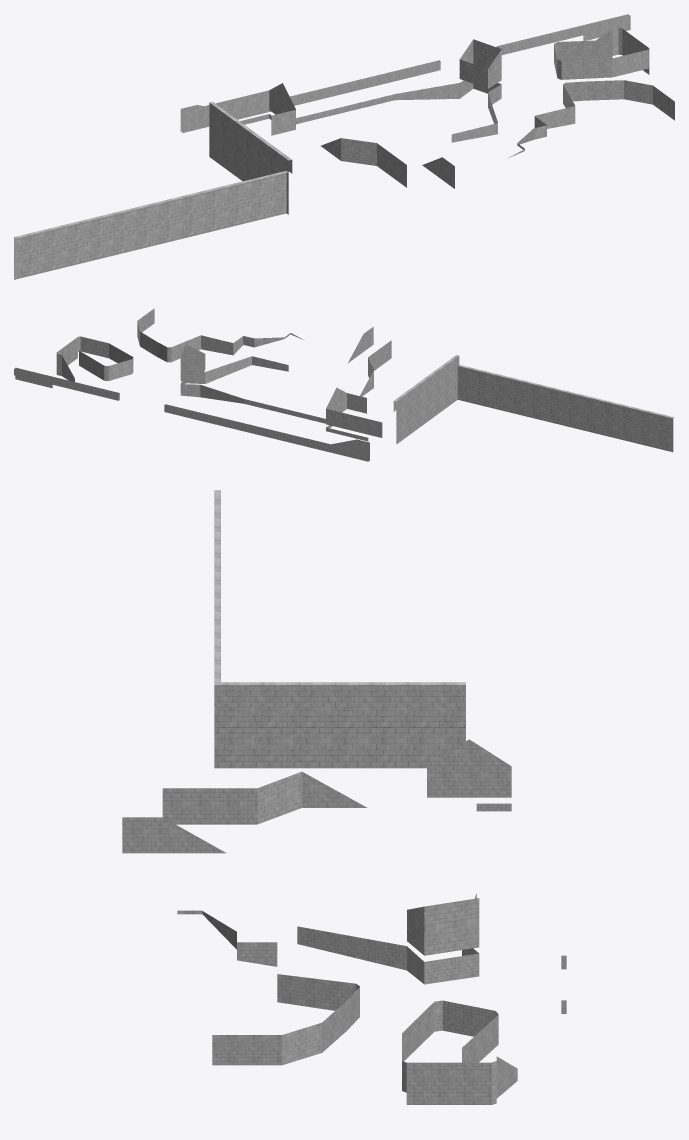
File: SM_ConcreteWall_01.fbx
3 views of the same model, one above another, from view 1: azimuth 30°, elevation 25°; view 2: azimuth 150°, elevation 25°; view 3: azimuth 270°, elevation 25° (orthographic). The views are drawn at different scales.
Visible parts, largest first — view 1: SM_ConcreteWall_01; view 2: SM_ConcreteWall_01; view 3: SM_ConcreteWall_01.
Boxes of the visible parts, x1,y1,x2,y2 form: SM_ConcreteWall_01: (14, 14, 674, 279); SM_ConcreteWall_01: (14, 308, 674, 461); SM_ConcreteWall_01: (122, 490, 566, 1104).
Bounding box in the file's own units: 13266 × 1086 × 4453.
